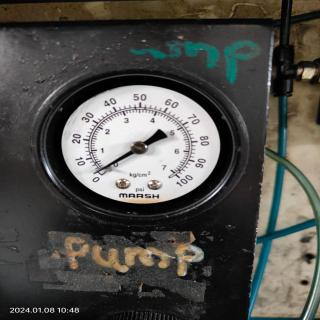gauge: (10, 62, 262, 230), (89, 161, 115, 185), (166, 166, 187, 189), (131, 140, 148, 156), (91, 169, 101, 177)
